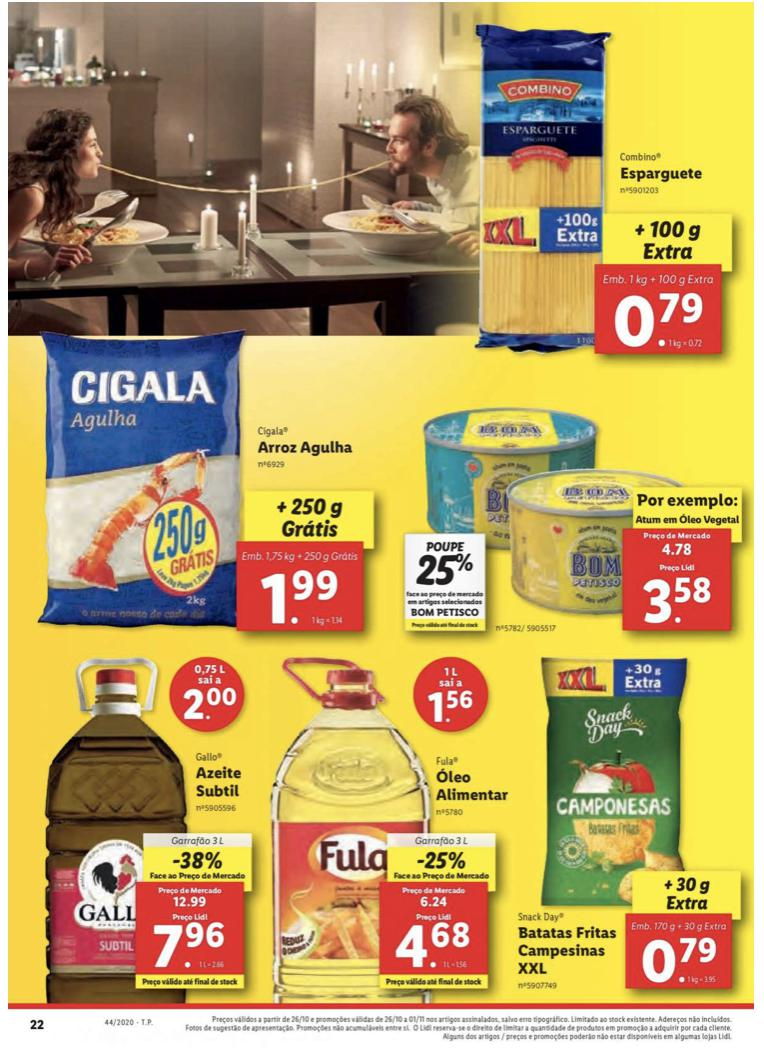name: (515, 927, 624, 978), (433, 765, 509, 808), (254, 436, 354, 458), (617, 161, 709, 184), (194, 763, 244, 800)
price: (612, 287, 708, 352), (259, 565, 344, 630), (634, 932, 719, 986), (151, 916, 229, 974), (644, 573, 720, 627), (395, 921, 475, 971)
product: (24, 332, 370, 646), (462, 8, 740, 369), (251, 634, 507, 1008), (391, 387, 738, 652), (505, 634, 749, 995), (24, 646, 251, 1008)
promotion: (412, 549, 476, 588), (169, 845, 229, 874), (412, 849, 469, 873)
